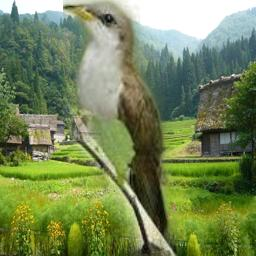Cuckoo: (63, 0, 178, 256)
